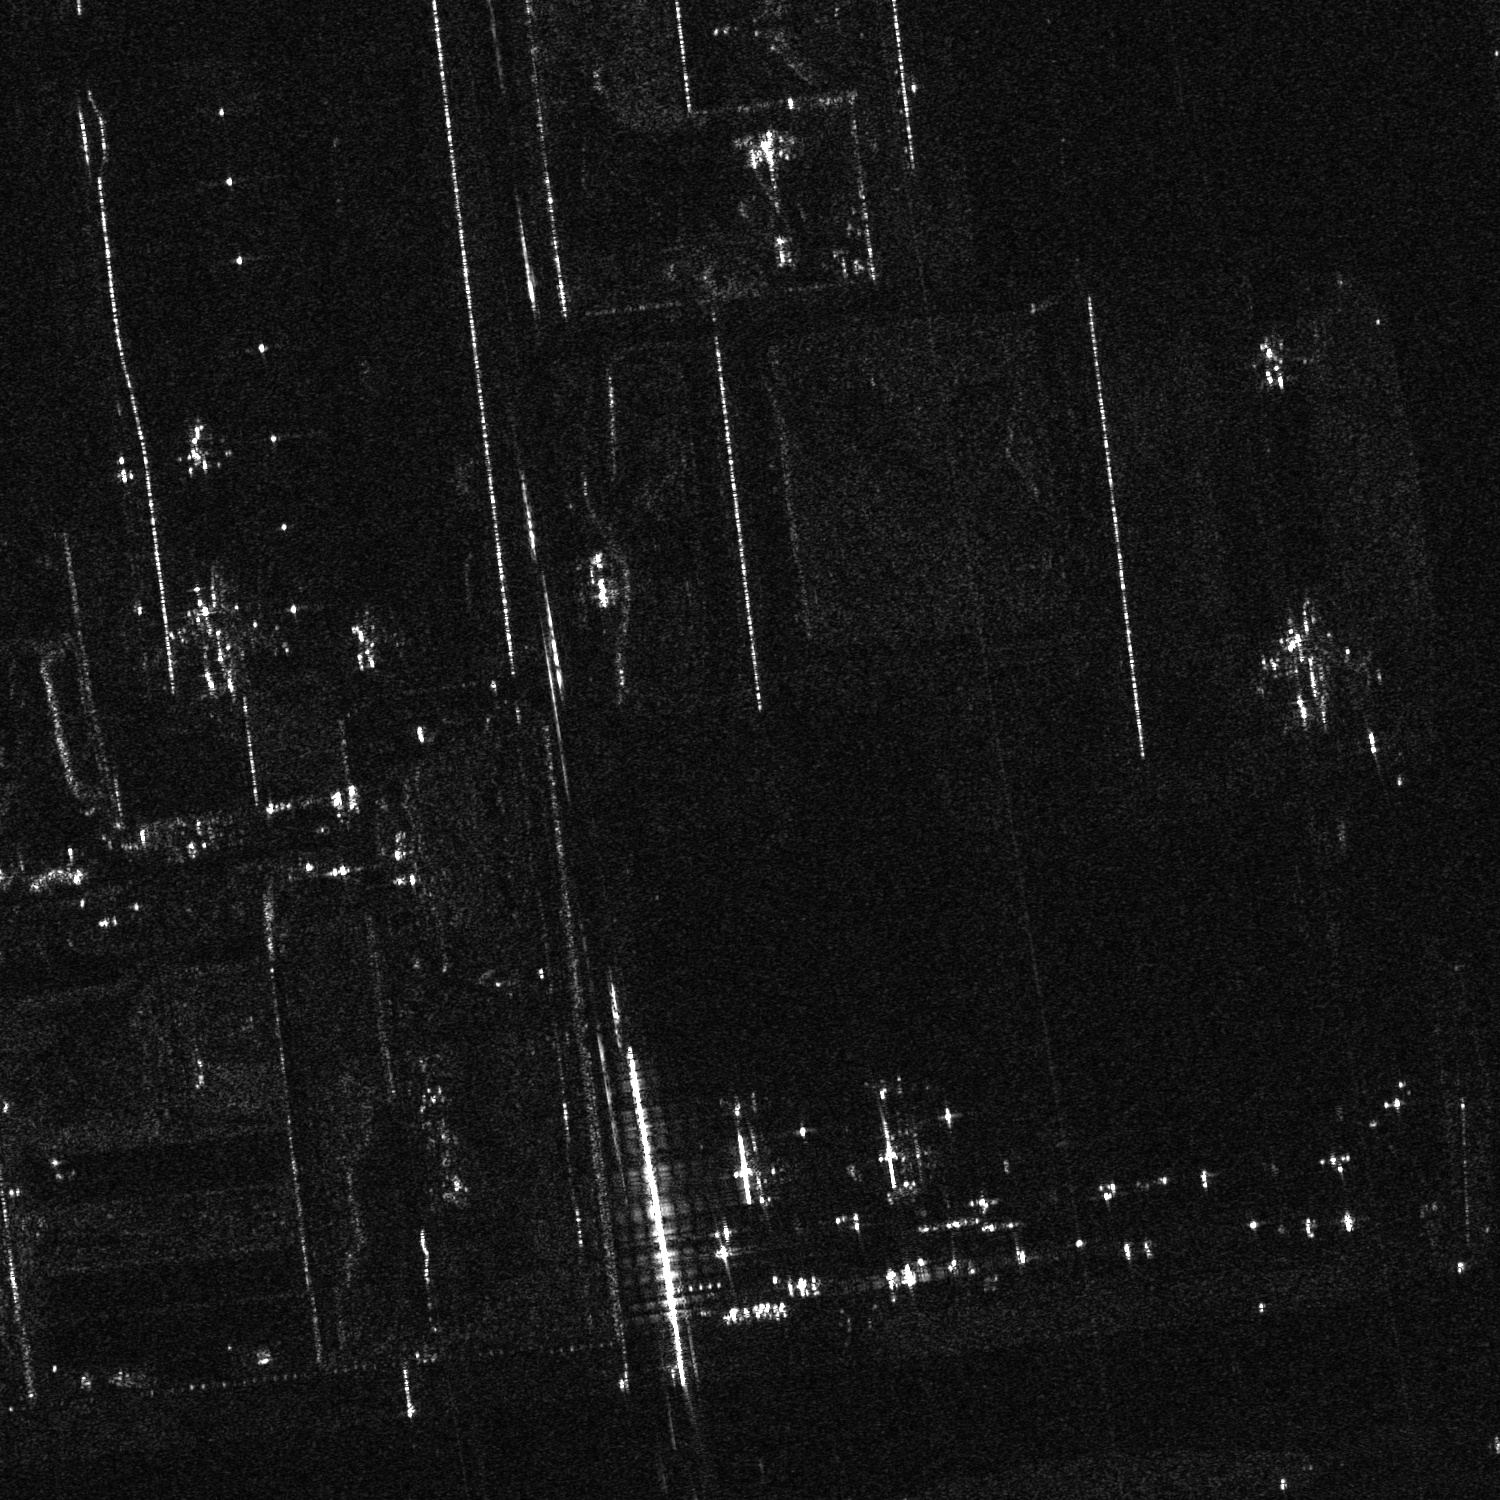A220: (1229, 326, 1308, 398), (332, 614, 393, 674)
other: (1234, 604, 1382, 738), (161, 573, 282, 701), (168, 419, 232, 479)
